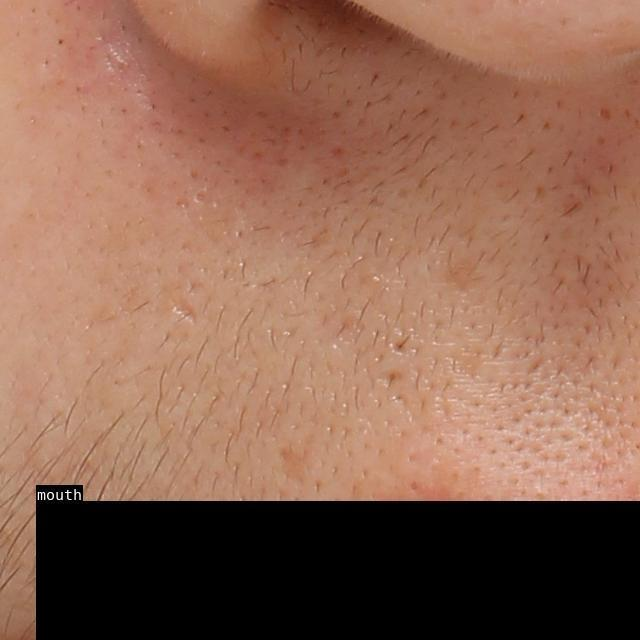atrophic_scar: (273, 434, 321, 488), (437, 254, 491, 299), (169, 295, 202, 329)
